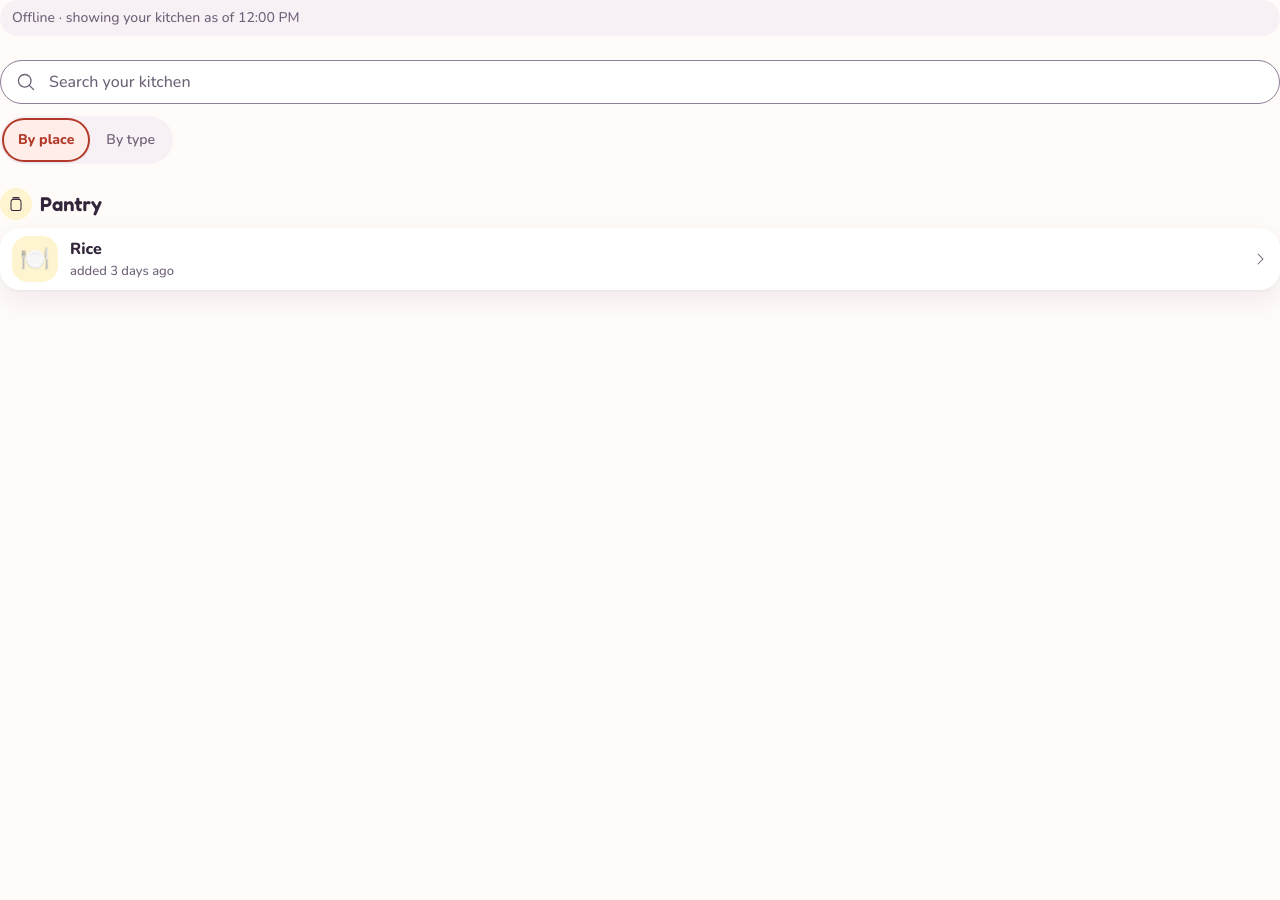
Test: Offline › while the kitchen is stale (offline), the sheet opens to read, with the levels off and the place's offline line
Expected: the text "Offline · showing your kitchen as of 12:00 PM" is shown, [0,0,1279,36]
Click the button with aria-label "Edit rice" at (86, 249), box [70,238,102,260]
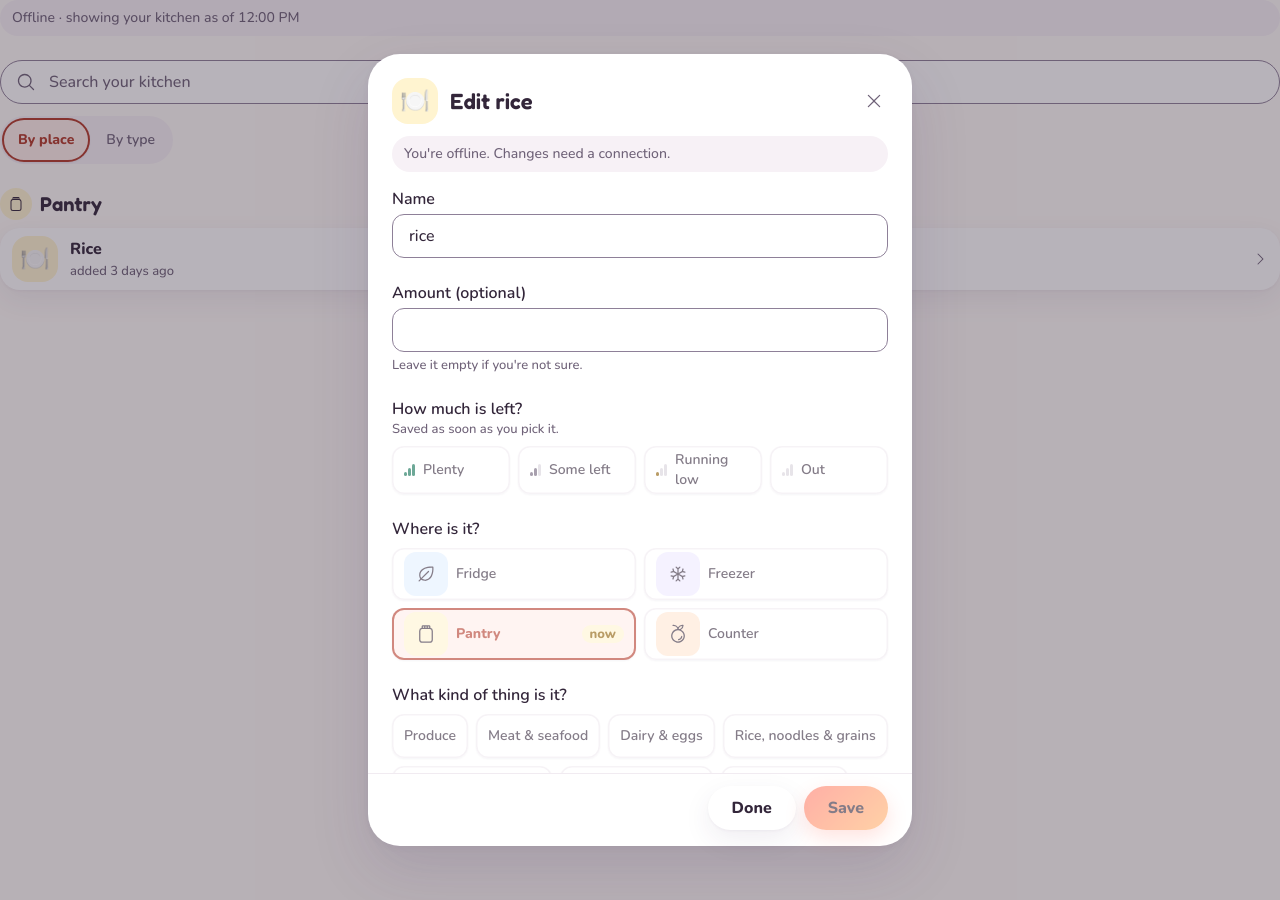
Now the button "Plenty" is disabled, box [392,446,510,494]
Now the button "Some left" is disabled, box [518,446,636,494]
Now the button "Running low" is disabled, box [644,446,762,494]
